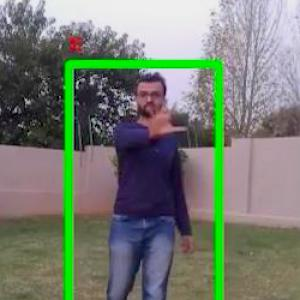follow_hand: (138, 94, 186, 139)
